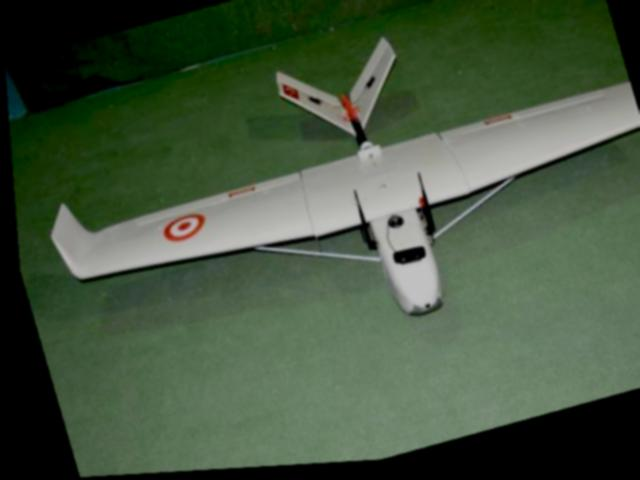iha: (0, 0, 640, 413)
